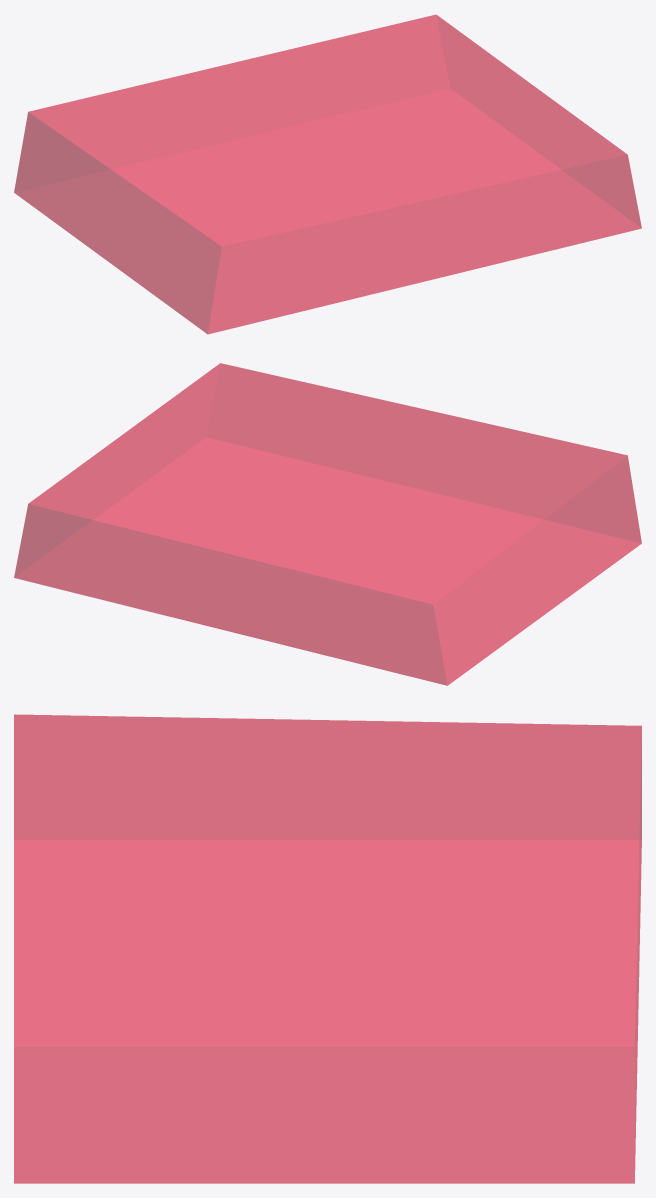
File: Quilt_01_collision.DAE
3 views of the same model, one above another, from view 1: azimuth 30°, elevation 25°; view 2: azimuth 150°, elevation 25°; view 3: azimuth 270°, elevation 25° (orthographic). The views are drawn at different scales.
Parts seen in each view (by area): view 1: Quilt_01_collision; view 2: Quilt_01_collision; view 3: Quilt_01_collision.
Boxes of the visible parts, x1=… form: Quilt_01_collision: x1=14, y1=14, x2=641, y2=334; Quilt_01_collision: x1=14, y1=363, x2=641, y2=685; Quilt_01_collision: x1=14, y1=714, x2=641, y2=1183.
Size of the model in its own units: 208 by 160 by 38.57.
